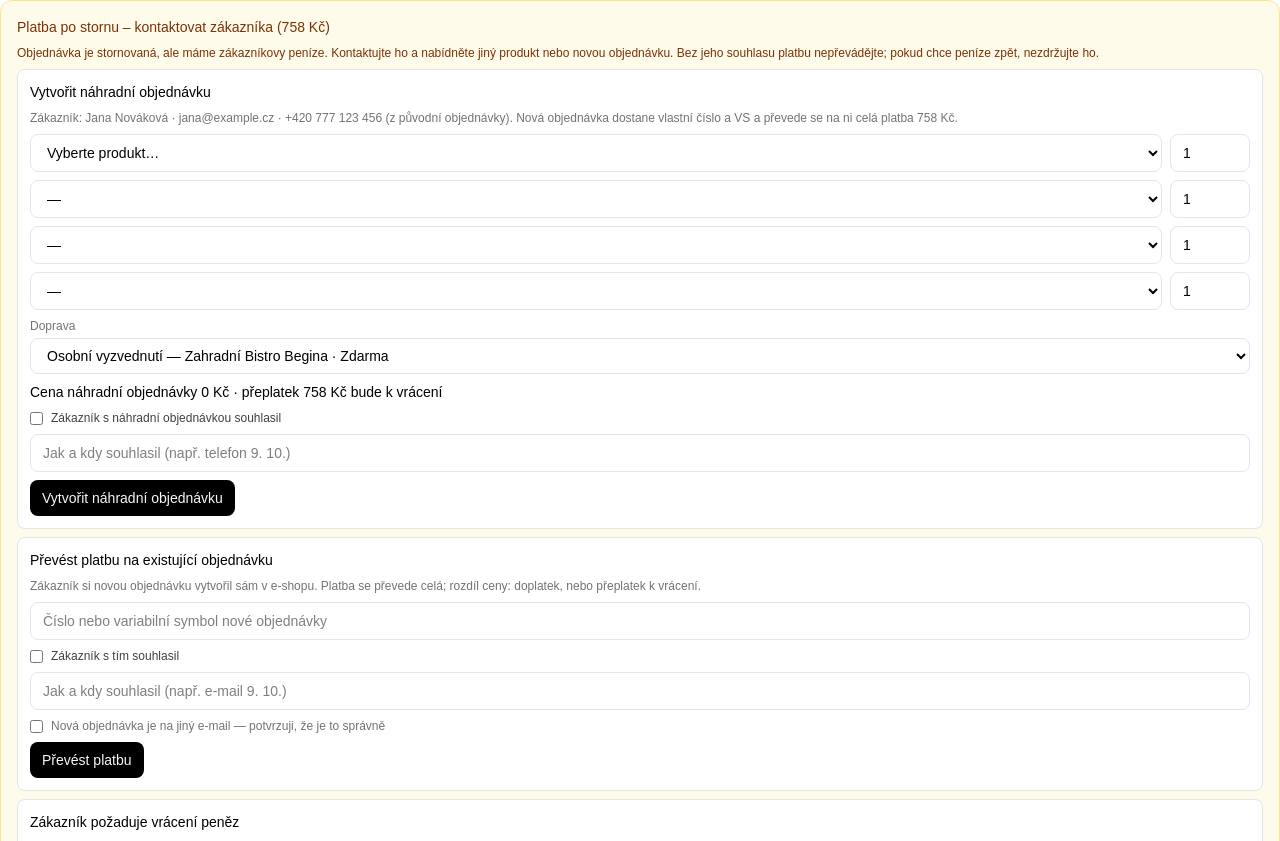
Test case: peníze stornované objednávky › doprava podle hmotnosti: cena z hmotnosti balení, bez hmotnosti → individuální domluva
The width and height of the screenshot is (1280, 841).
Select "Kulajda — 1 l · 379 Kč" in the dropdown named "Produkt 1": {"x": 596, "y": 153} 30,134 -> 1162,172
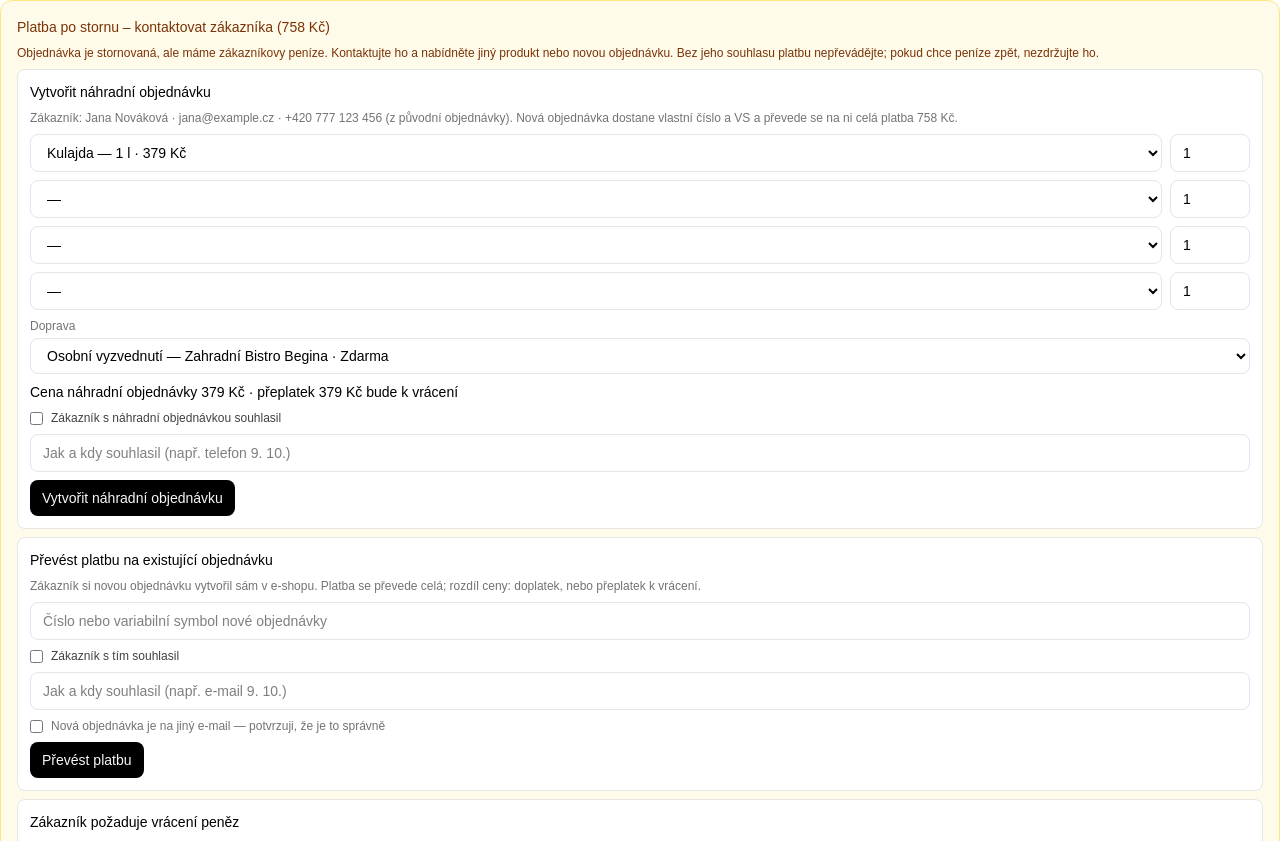
Replace the text in the number field named "Počet 1" with "2": {"x": 1210, "y": 153} 1170,134 -> 1250,172
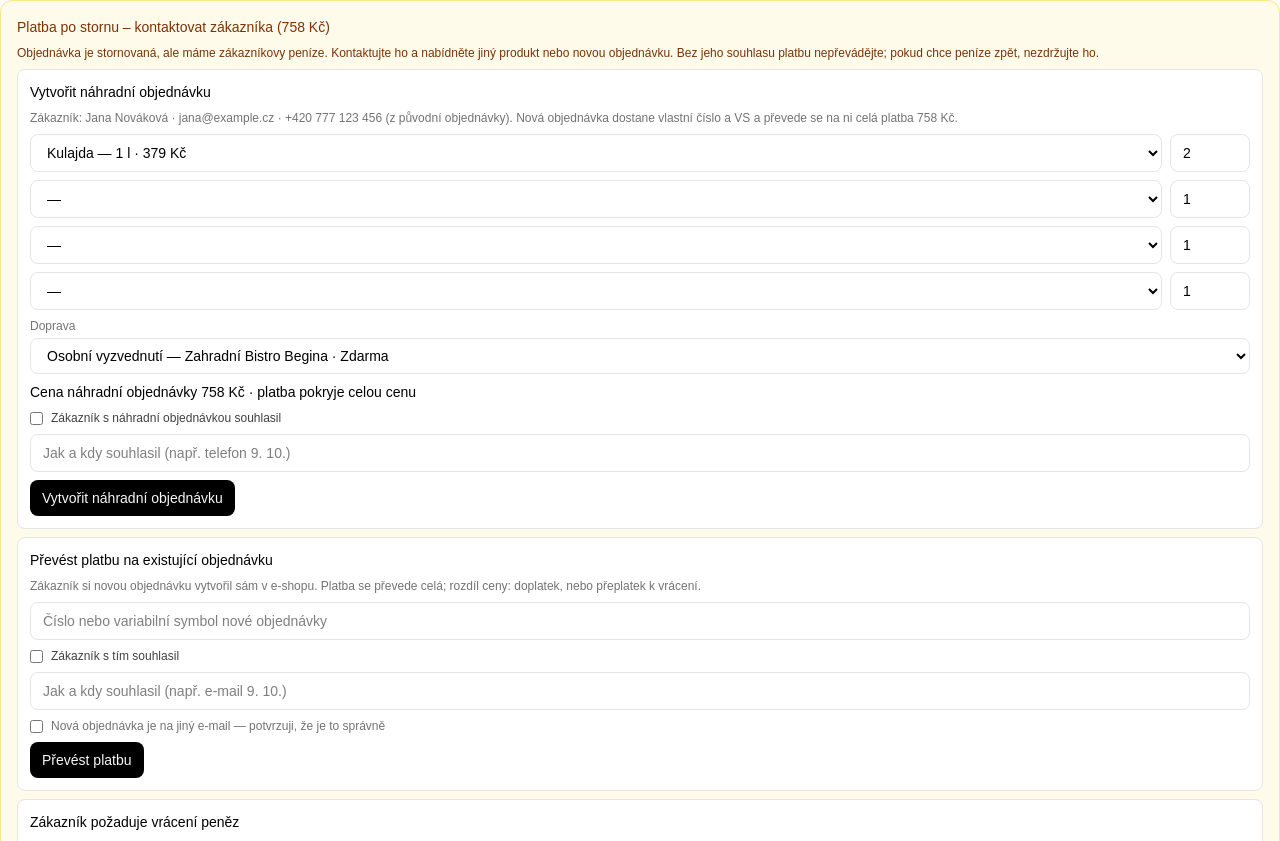
Select "Chlazená přeprava · 267 Kč" in the dropdown labelled "Doprava": {"x": 640, "y": 356} 30,338 -> 1250,374
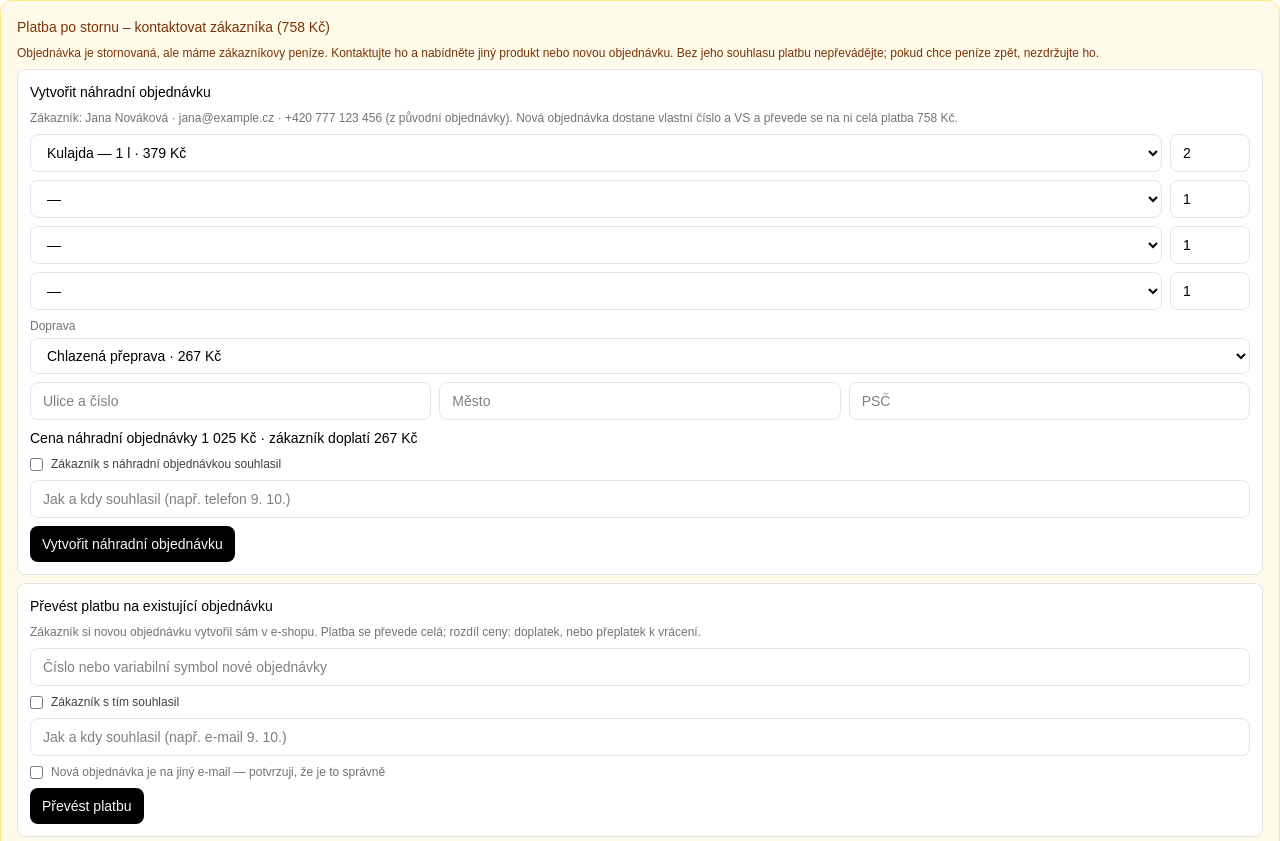
Result: the text "Cena náhradní objednávky 1 025 Kč · zákazník doplatí 267 Kč" is shown at 30,430 -> 418,446
Select "Dům u jezera — 3 l · 449 Kč" in the dropdown named "Produkt 2": {"x": 596, "y": 199} 30,180 -> 1162,218
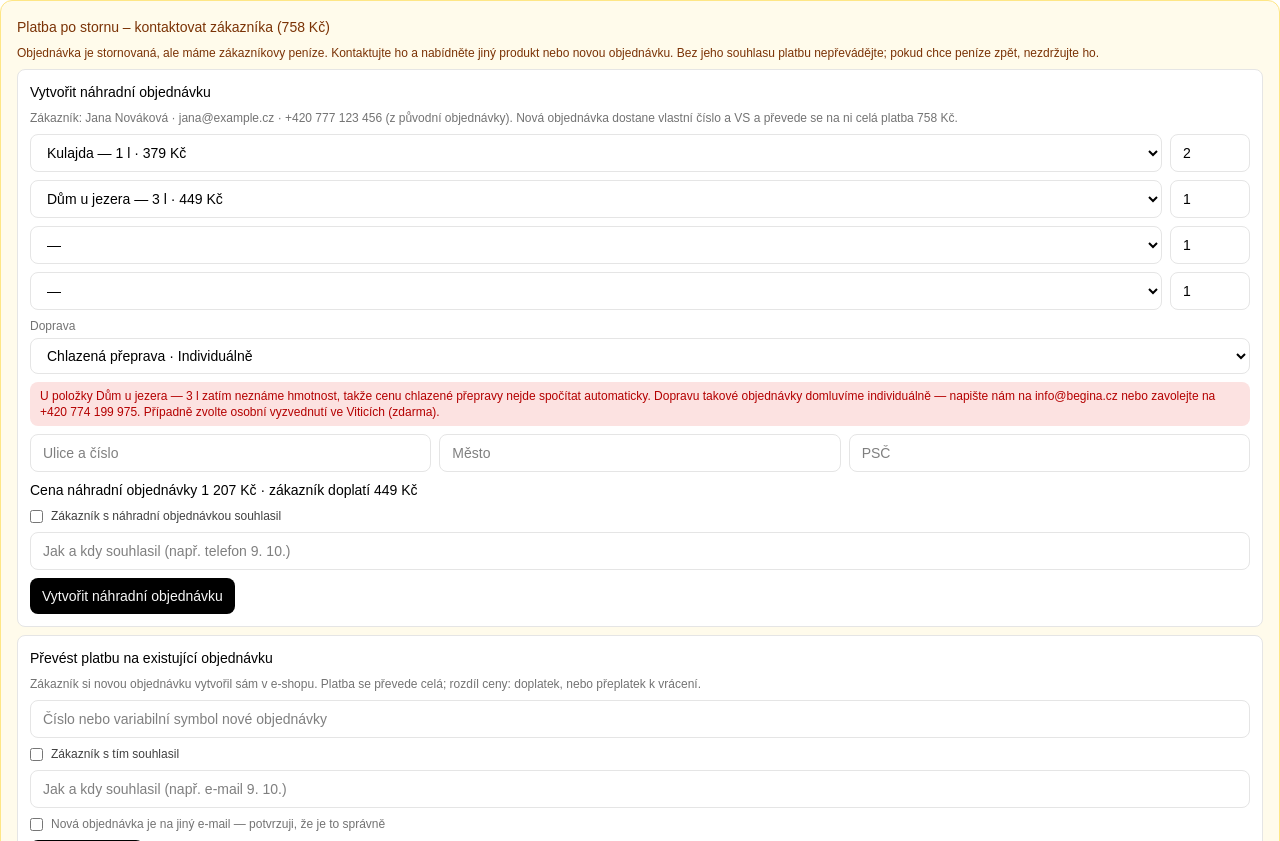
Result: the text "U položky Dům u jezera — 3 l zatím neznáme hmotnost" is shown at 40,389 -> 1215,419
